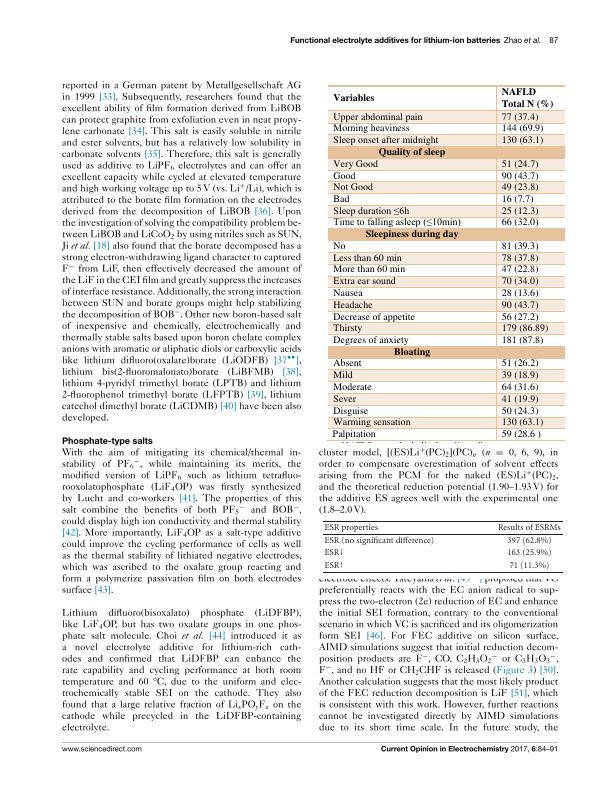borderless: (325, 84, 564, 442), (321, 519, 563, 572)
cell: (332, 215, 461, 230), (332, 134, 439, 147), (500, 86, 554, 111), (364, 228, 459, 241), (332, 111, 423, 124), (332, 204, 410, 219), (332, 310, 415, 324), (323, 536, 435, 546), (332, 416, 411, 429), (332, 122, 410, 135), (332, 334, 409, 347), (332, 263, 405, 276), (332, 252, 402, 265), (377, 146, 446, 159), (332, 275, 396, 288), (497, 523, 562, 533), (500, 322, 549, 335), (332, 158, 378, 171), (331, 428, 376, 441), (500, 122, 544, 135), (500, 134, 544, 147), (500, 334, 544, 347), (500, 416, 544, 429), (323, 523, 379, 533), (332, 92, 375, 105), (500, 169, 539, 183), (500, 310, 539, 324), (392, 345, 431, 359), (500, 404, 539, 418), (332, 181, 373, 194), (332, 299, 373, 312), (500, 428, 541, 441), (332, 381, 372, 394), (332, 404, 369, 418), (500, 111, 539, 124), (500, 158, 539, 171), (500, 181, 539, 194), (500, 205, 539, 218), (500, 216, 539, 229), (500, 240, 539, 253), (500, 252, 539, 265), (500, 263, 539, 276), (500, 275, 539, 288), (500, 287, 539, 300), (500, 299, 539, 312), (500, 357, 539, 370), (500, 369, 539, 382), (500, 381, 539, 394), (500, 393, 539, 406), (508, 560, 550, 571), (506, 536, 552, 546), (506, 548, 552, 558), (500, 193, 534, 206), (332, 287, 363, 300), (332, 322, 363, 335), (332, 357, 362, 370), (332, 169, 356, 183), (332, 393, 356, 406), (332, 369, 353, 382), (323, 560, 345, 571), (332, 193, 350, 206), (323, 548, 345, 558), (332, 240, 346, 253)
